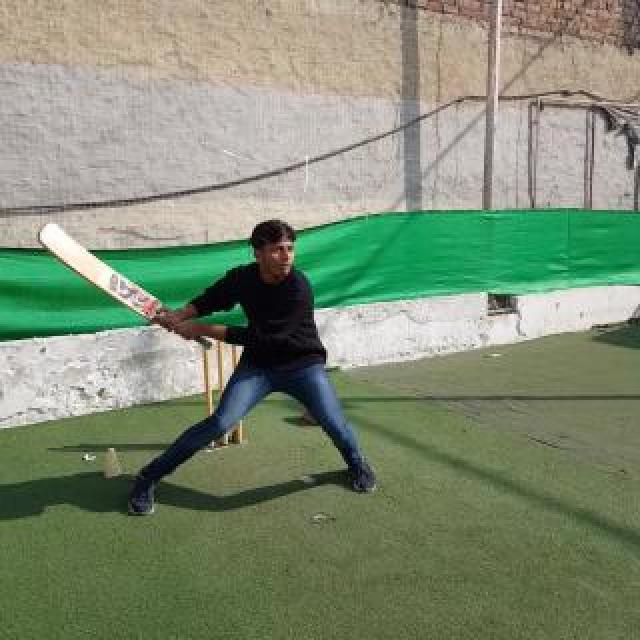bat: (36, 222, 212, 350)
